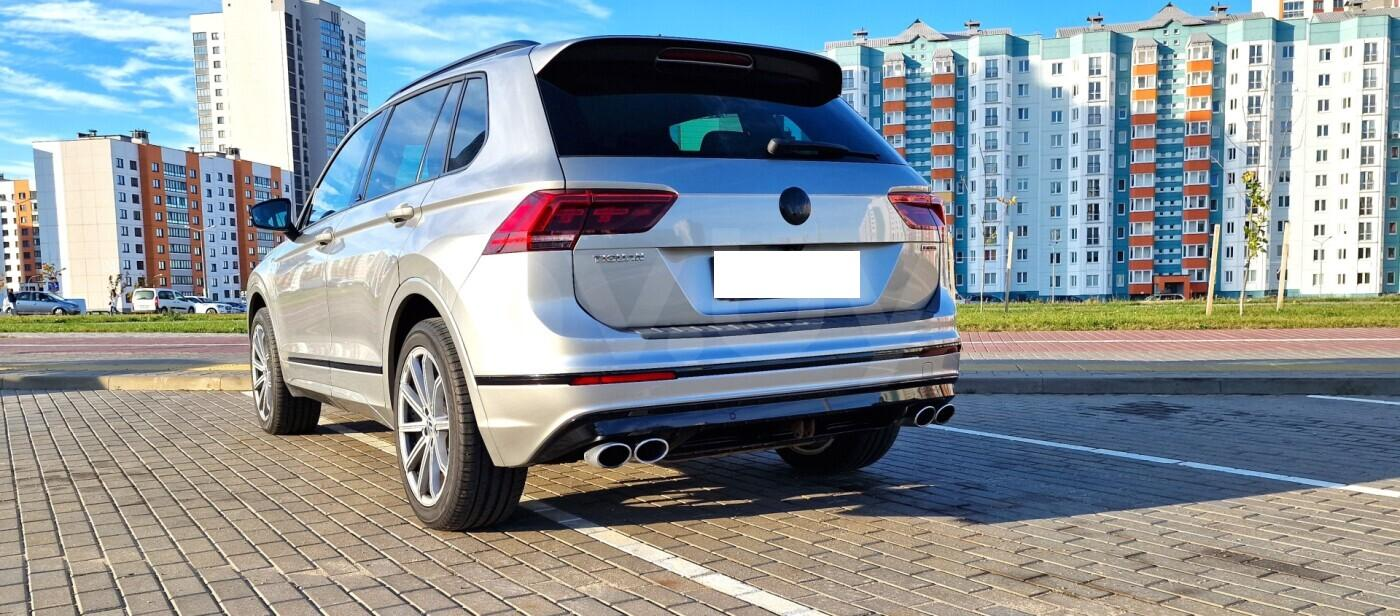Tiguan_2016-2021: (239, 41, 952, 518)
